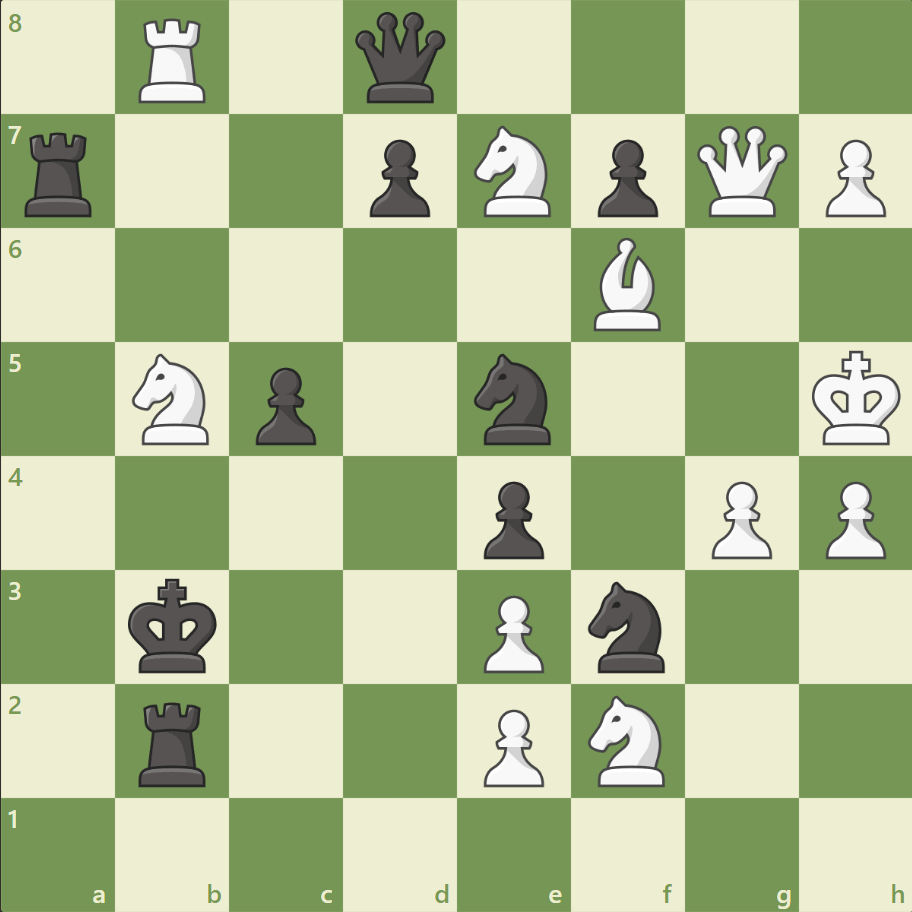B: (585, 233, 669, 336)
K: (806, 344, 906, 452)
N: (124, 348, 222, 450), (579, 688, 676, 791), (465, 121, 562, 223)
P: (701, 473, 776, 564), (474, 586, 549, 677), (474, 700, 549, 791), (815, 132, 889, 223), (815, 473, 889, 564)
Q: (691, 122, 790, 222)
R: (133, 12, 215, 109)
k: (124, 571, 224, 679)
n: (465, 348, 562, 450), (579, 575, 676, 677)
p: (247, 359, 322, 450), (474, 473, 549, 564), (361, 132, 435, 223), (588, 132, 662, 223)
q: (351, 9, 450, 108)
r: (19, 125, 102, 222), (133, 693, 215, 790)
